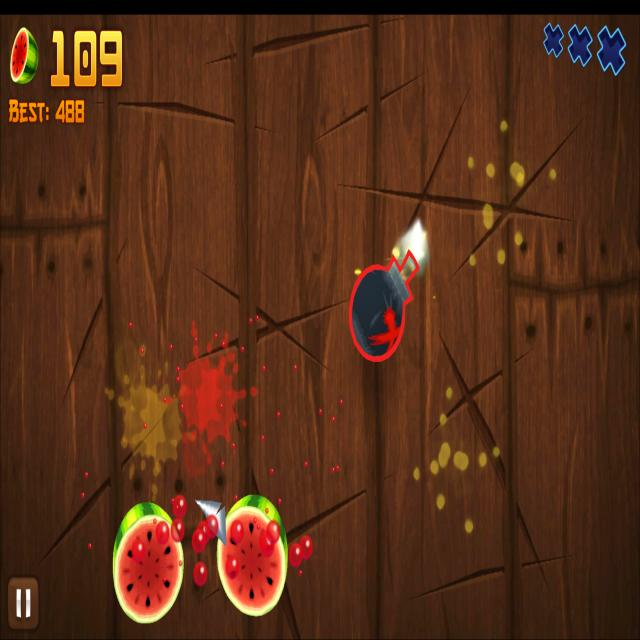bomb: (348, 248, 420, 364)
